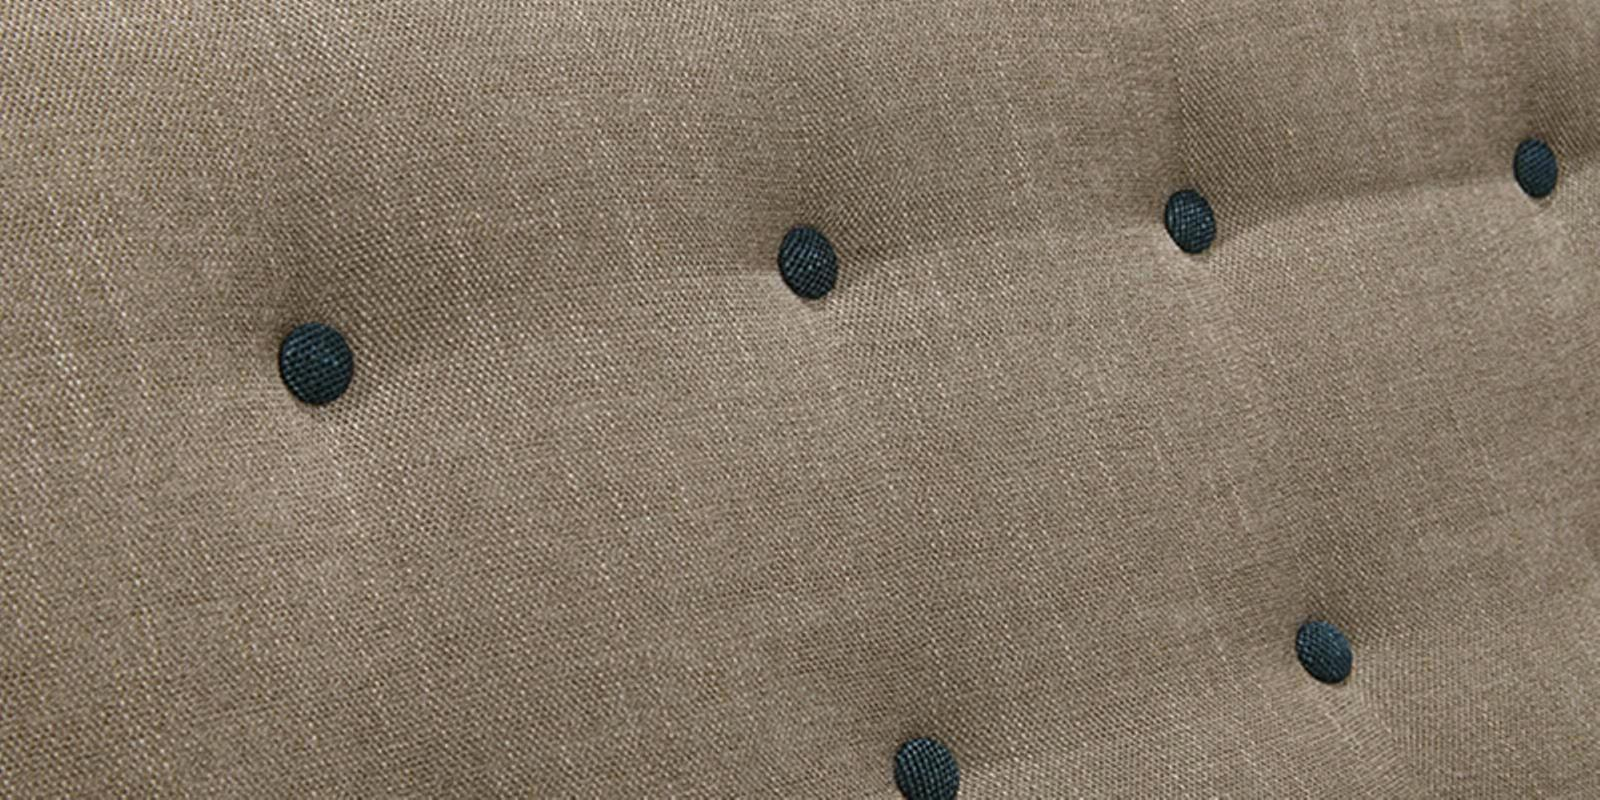Havana Three Seater Sofa in Ecru Colour by CasaCraft: (8, 1, 1553, 800)
